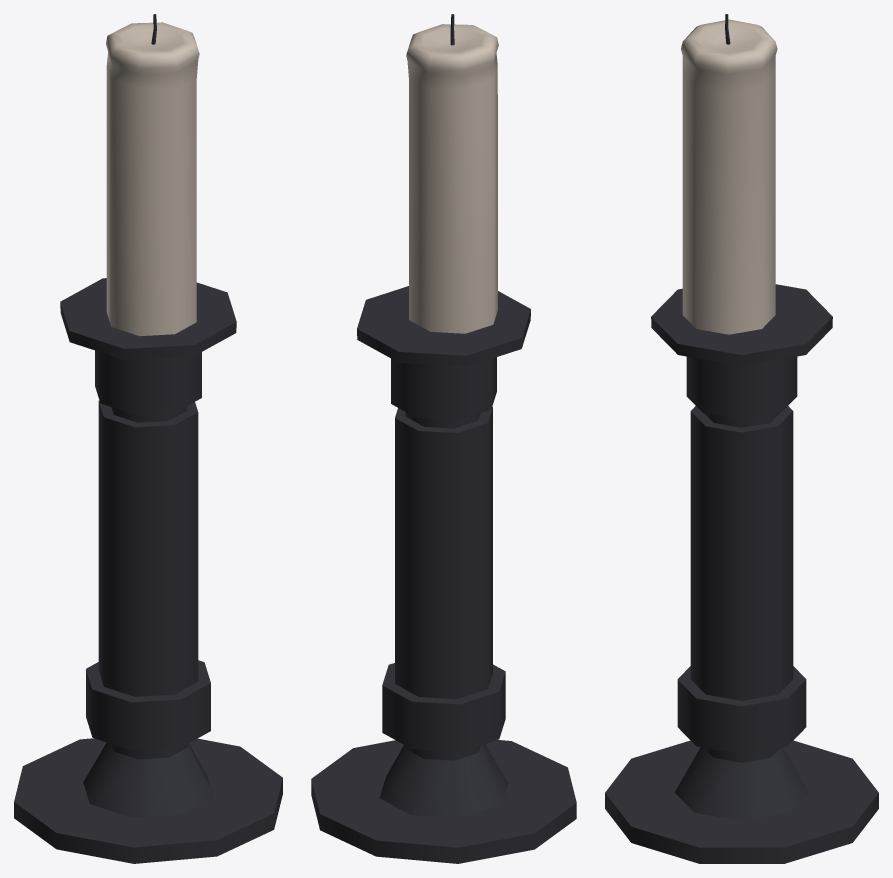
File: CandleHolder_01.fbx
3 views of the same model, side by side, from view 1: azimuth 30°, elevation 25°; view 2: azimuth 150°, elevation 25°; view 3: azimuth 270°, elevation 25° (orthographic).
Parts seen in each view (by area): view 1: CandleHolder_01; view 2: CandleHolder_01; view 3: CandleHolder_01.
Boxes of the visible parts, bbox=[...] form: CandleHolder_01: bbox=[14, 14, 282, 863]; CandleHolder_01: bbox=[311, 14, 576, 863]; CandleHolder_01: bbox=[605, 14, 878, 863].
Size of the model in its own units: 0.1105 by 0.3717 by 0.1161.
